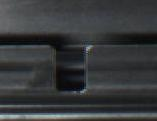oneu: (46, 40, 96, 98)
